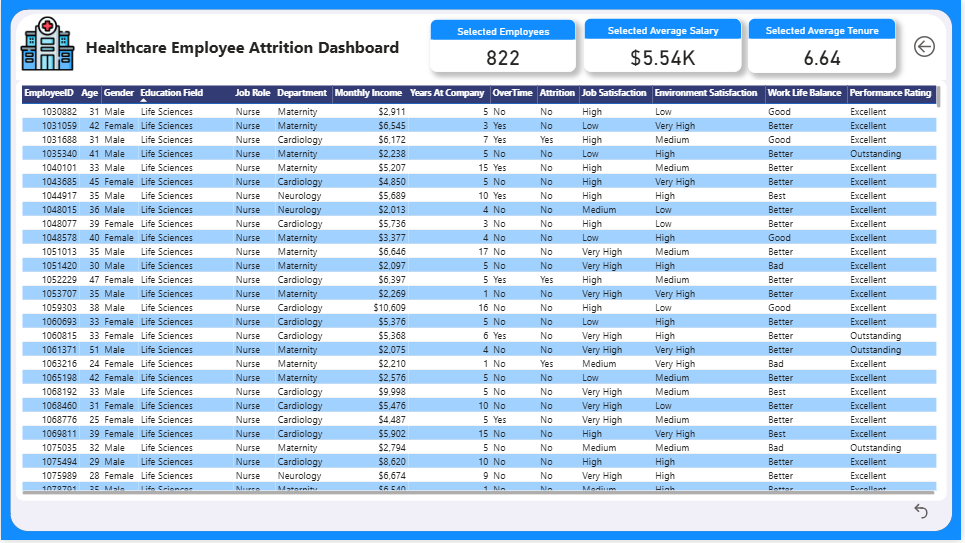

Layout of this report page (visuals, bound fields, positions):
{"tool":"powerbi","page":{"name":"Drill Through Details","canvas":[1920,1080],"ordinal":3},"visuals":[{"type":"shape","box":[17.5,17.5,1885,1045],"z":1000},{"type":"shape","box":[30,27.5,1861.2,132.5],"z":2000},{"type":"textbox","box":[164,66,654,54],"z":3000},{"type":"image","box":[22.5,27.5,142.5,117.5],"z":4000},{"type":"card","title":"Selected Employees","fields":{"Values":["Fact_EmployeeAttrition.Selected Employees"]},"box":[857.4,38.7,292.3,106.5],"z":5000},{"type":"card","title":"Selected Average Salary","fields":{"Values":["Fact_EmployeeAttrition.Selected Avg Salary"]},"box":[1165.2,36.8,315.5,108.4],"z":6000},{"type":"card","title":"Selected Average Tenure","fields":{"Values":["Fact_EmployeeAttrition.Selected Avg Tenure"]},"box":[1494,36,296,110],"z":7000},{"type":"tableEx","fields":{"Values":["Fact_EmployeeAttrition.EmployeeID","Dim_Employee.Age","Dim_Employee.Gender","Dim_Education.EducationField","Dim_Employee.JobRole","Dim_Employee.Department","Sum(Fact_EmployeeAttrition.MonthlyIncome)","Sum(Fact_EmployeeAttrition.YearsAtCompany)","Fact_EmployeeAttrition.OverTime","Fact_EmployeeAttrition.Attrition","Dim_Satisfaction.JobSatisfactionLabel","Dim_Satisfaction.EnvSatisfactionLabel"]},"box":[30.4,160.5,1860.7,841.4],"z":8000},{"type":"actionButton","box":[1820,66,82,54],"z":9000},{"type":"actionButton","box":[1820,1002.5,100,40],"z":10000}]}

Visuals, with their boxes in screenshot pixels (x1, y1, x2, y2), scaled from the page's 1920x1080 canvas onto the 965x543 screenshot:
shape: [x1=9, y1=9, x2=956, y2=534]
shape: [x1=15, y1=14, x2=951, y2=80]
textbox: [x1=82, y1=33, x2=411, y2=60]
image: [x1=11, y1=14, x2=83, y2=73]
"Selected Employees" card: [x1=431, y1=19, x2=578, y2=73]
"Selected Average Salary" card: [x1=586, y1=19, x2=744, y2=73]
"Selected Average Tenure" card: [x1=751, y1=18, x2=900, y2=73]
tableEx - Fact_EmployeeAttrition.EmployeeID x Dim_Employee.Age: [x1=15, y1=81, x2=950, y2=504]
actionButton: [x1=915, y1=33, x2=956, y2=60]
actionButton: [x1=915, y1=504, x2=964, y2=524]
